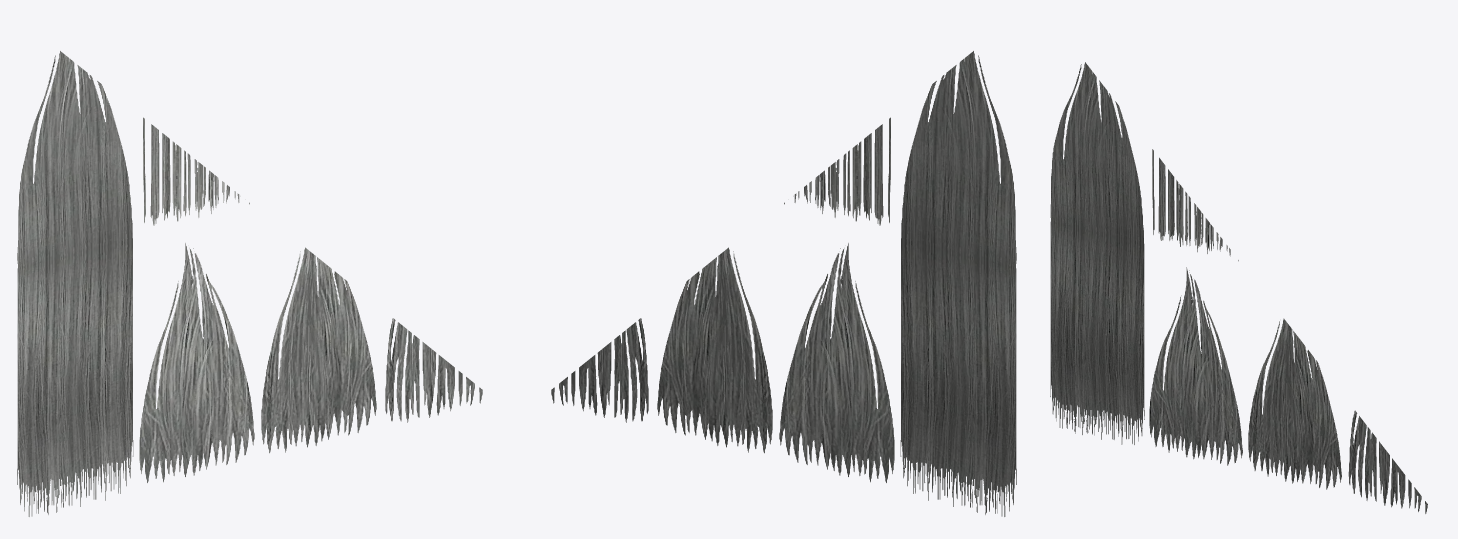
Rendered from hair-maps.glb.
3 views of the same model, side by side, from view 1: azimuth 30°, elevation 25°; view 2: azimuth 150°, elevation 25°; view 3: azimuth 330°, elevation 25° (orthographic). The views are drawn at different scales.
Parts seen in each view (by area): view 1: hair_choppy_1_maps; view 2: hair_choppy_1_maps; view 3: hair_choppy_1_maps.
Boxes of the visible parts, x1,y1,x2,y2 form: hair_choppy_1_maps: (17,51,482,516); hair_choppy_1_maps: (551,51,1016,516); hair_choppy_1_maps: (1050,62,1427,513).
Size of the model in its own units: 0.001 by 0.001 by 0.
Materials: 1 (1 with a texture image).
